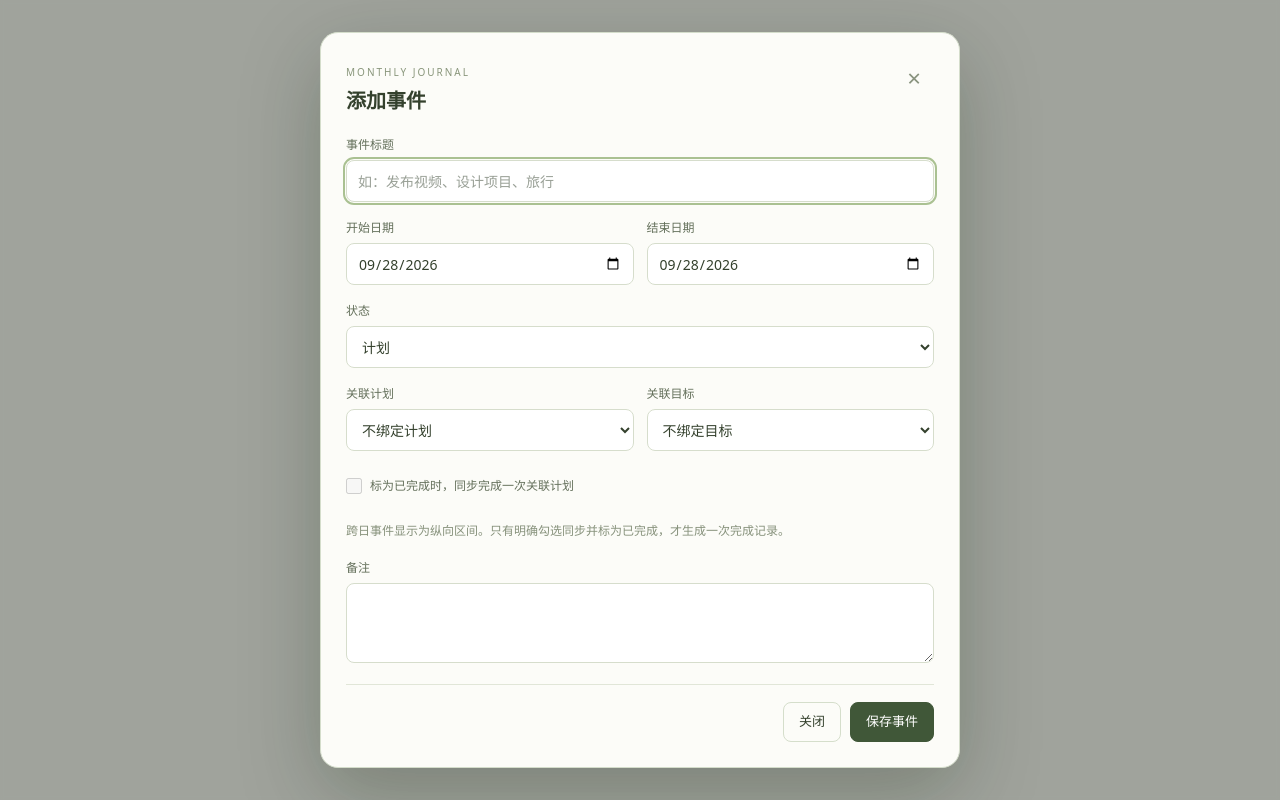
Test: submits a cross-month planned event with explicit completion choice
The width and height of the screenshot is (1280, 800).
Step 1. Type "旅行" into the field labelled "事件标题" → point(640, 181), box [346, 160, 934, 202]
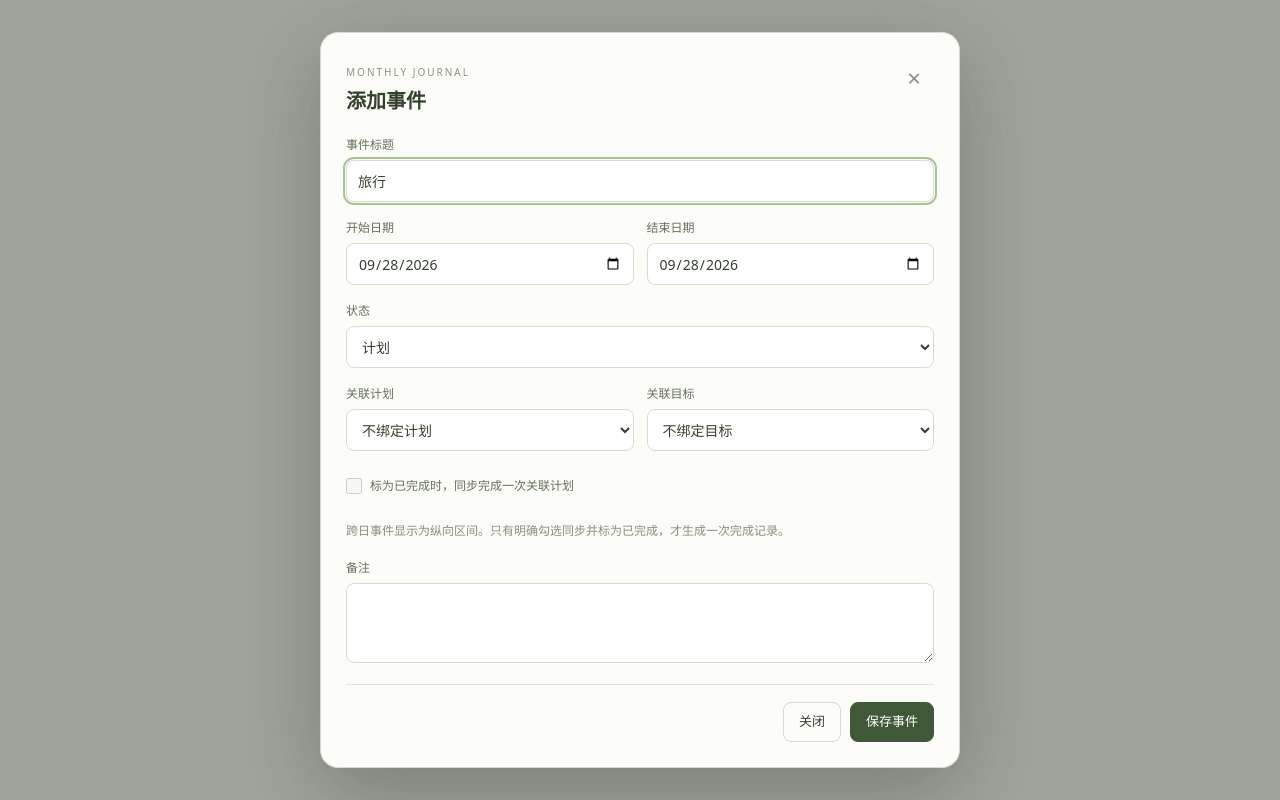
Step 2. Type "2026-10-03" into the date field labelled "结束日期" → point(790, 264), box [646, 243, 934, 285]
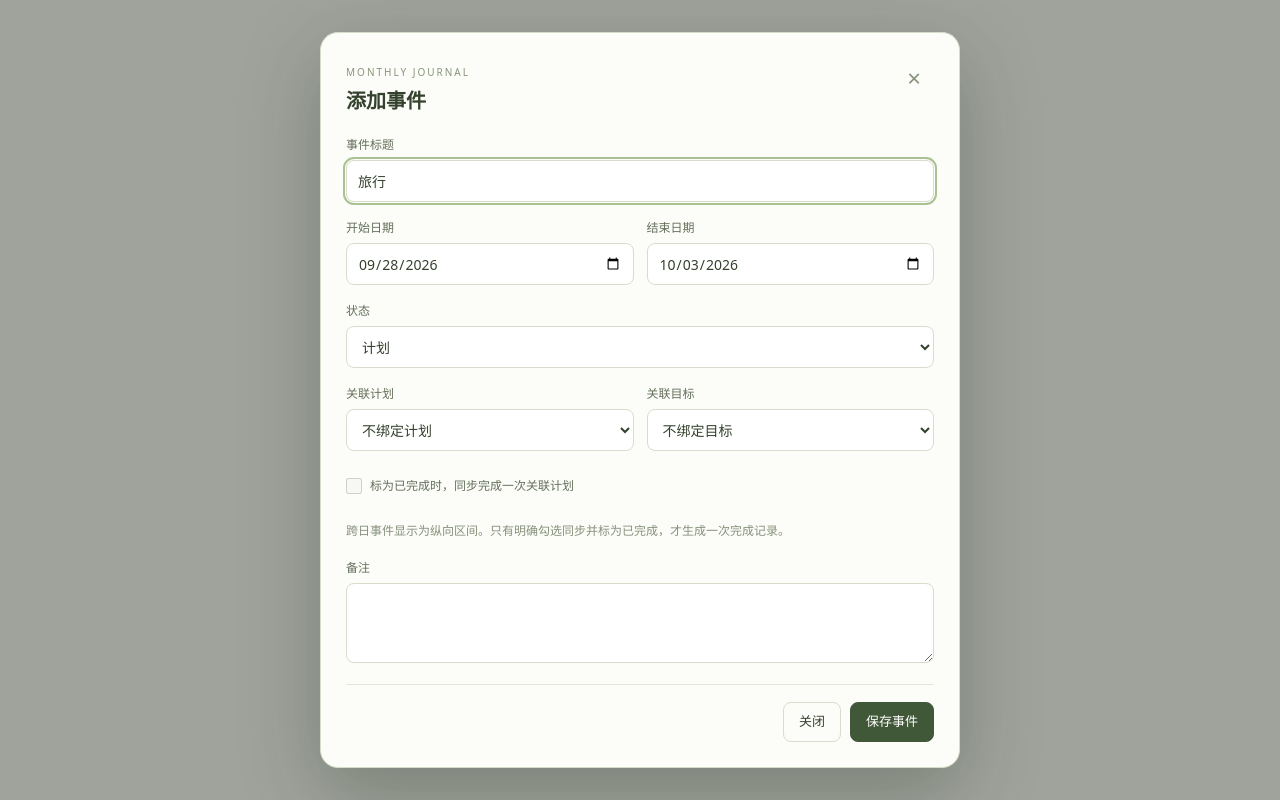
Step 3. Click the button "保存事件" → point(892, 722), box [850, 702, 934, 742]
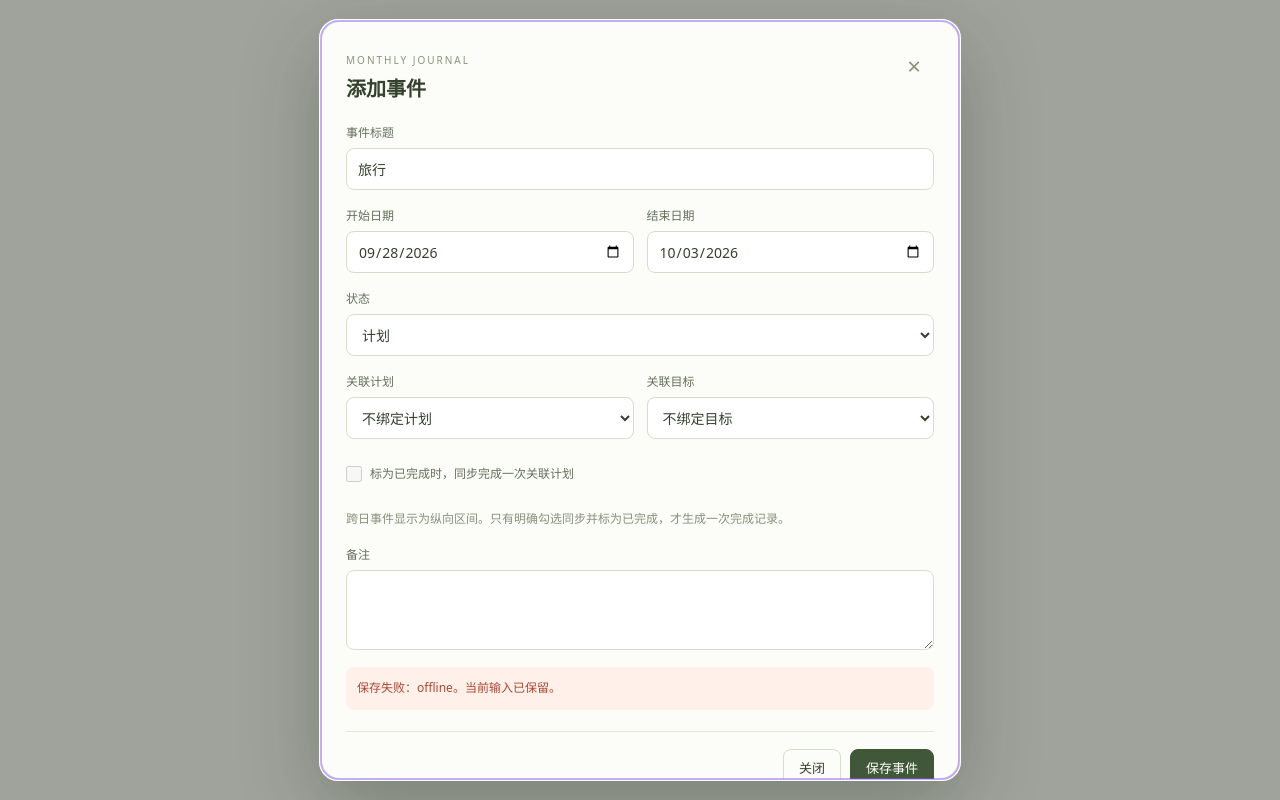
Expected: the message "保存失败：offline。当前输入已保留。" is shown, [346, 667, 934, 710]
